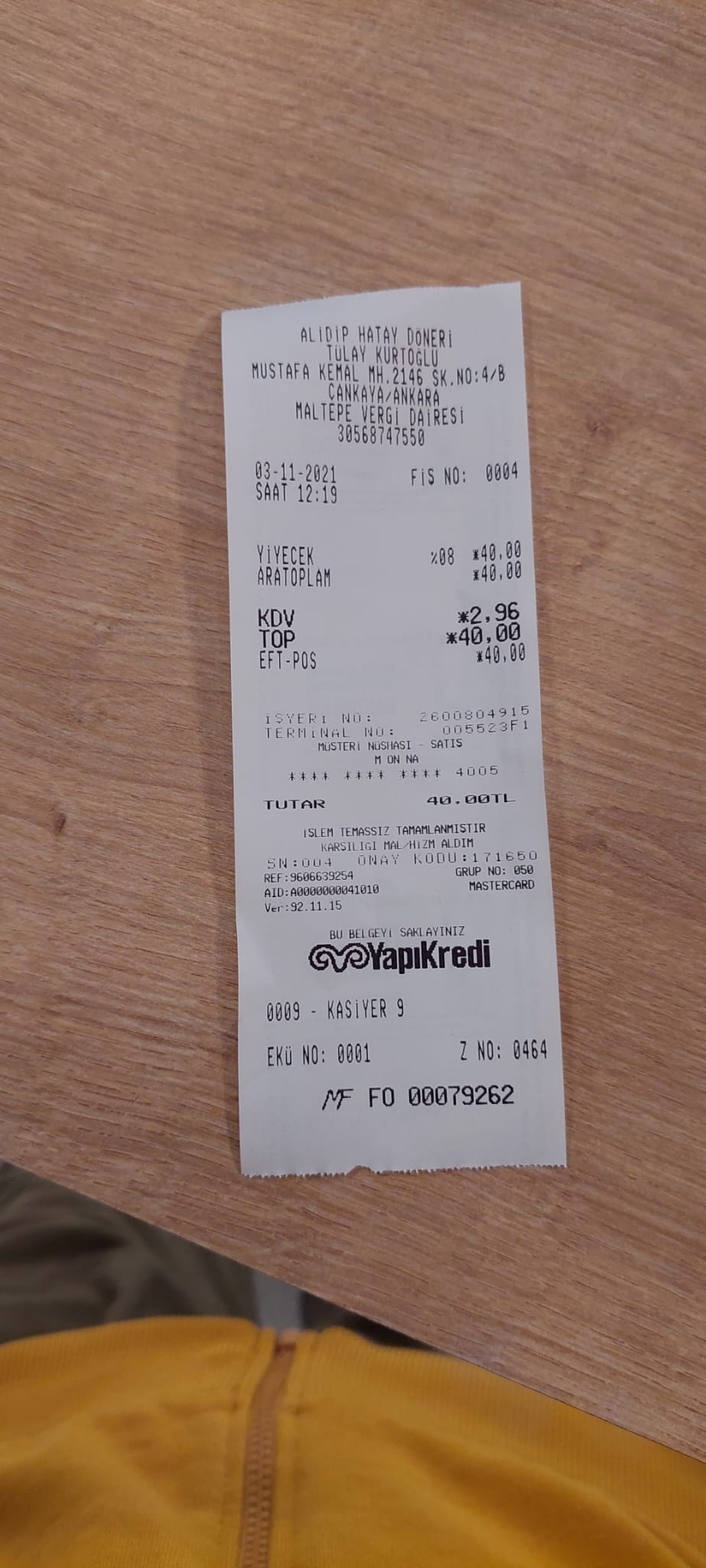date: (453, 621, 529, 646)
price: (248, 453, 346, 485)
workplace: (239, 316, 520, 406)
